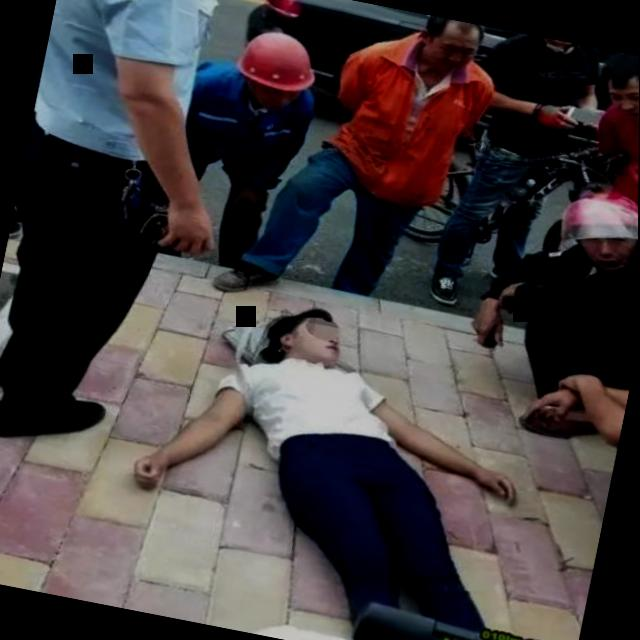Fall-Detected: (100, 266, 604, 640)
